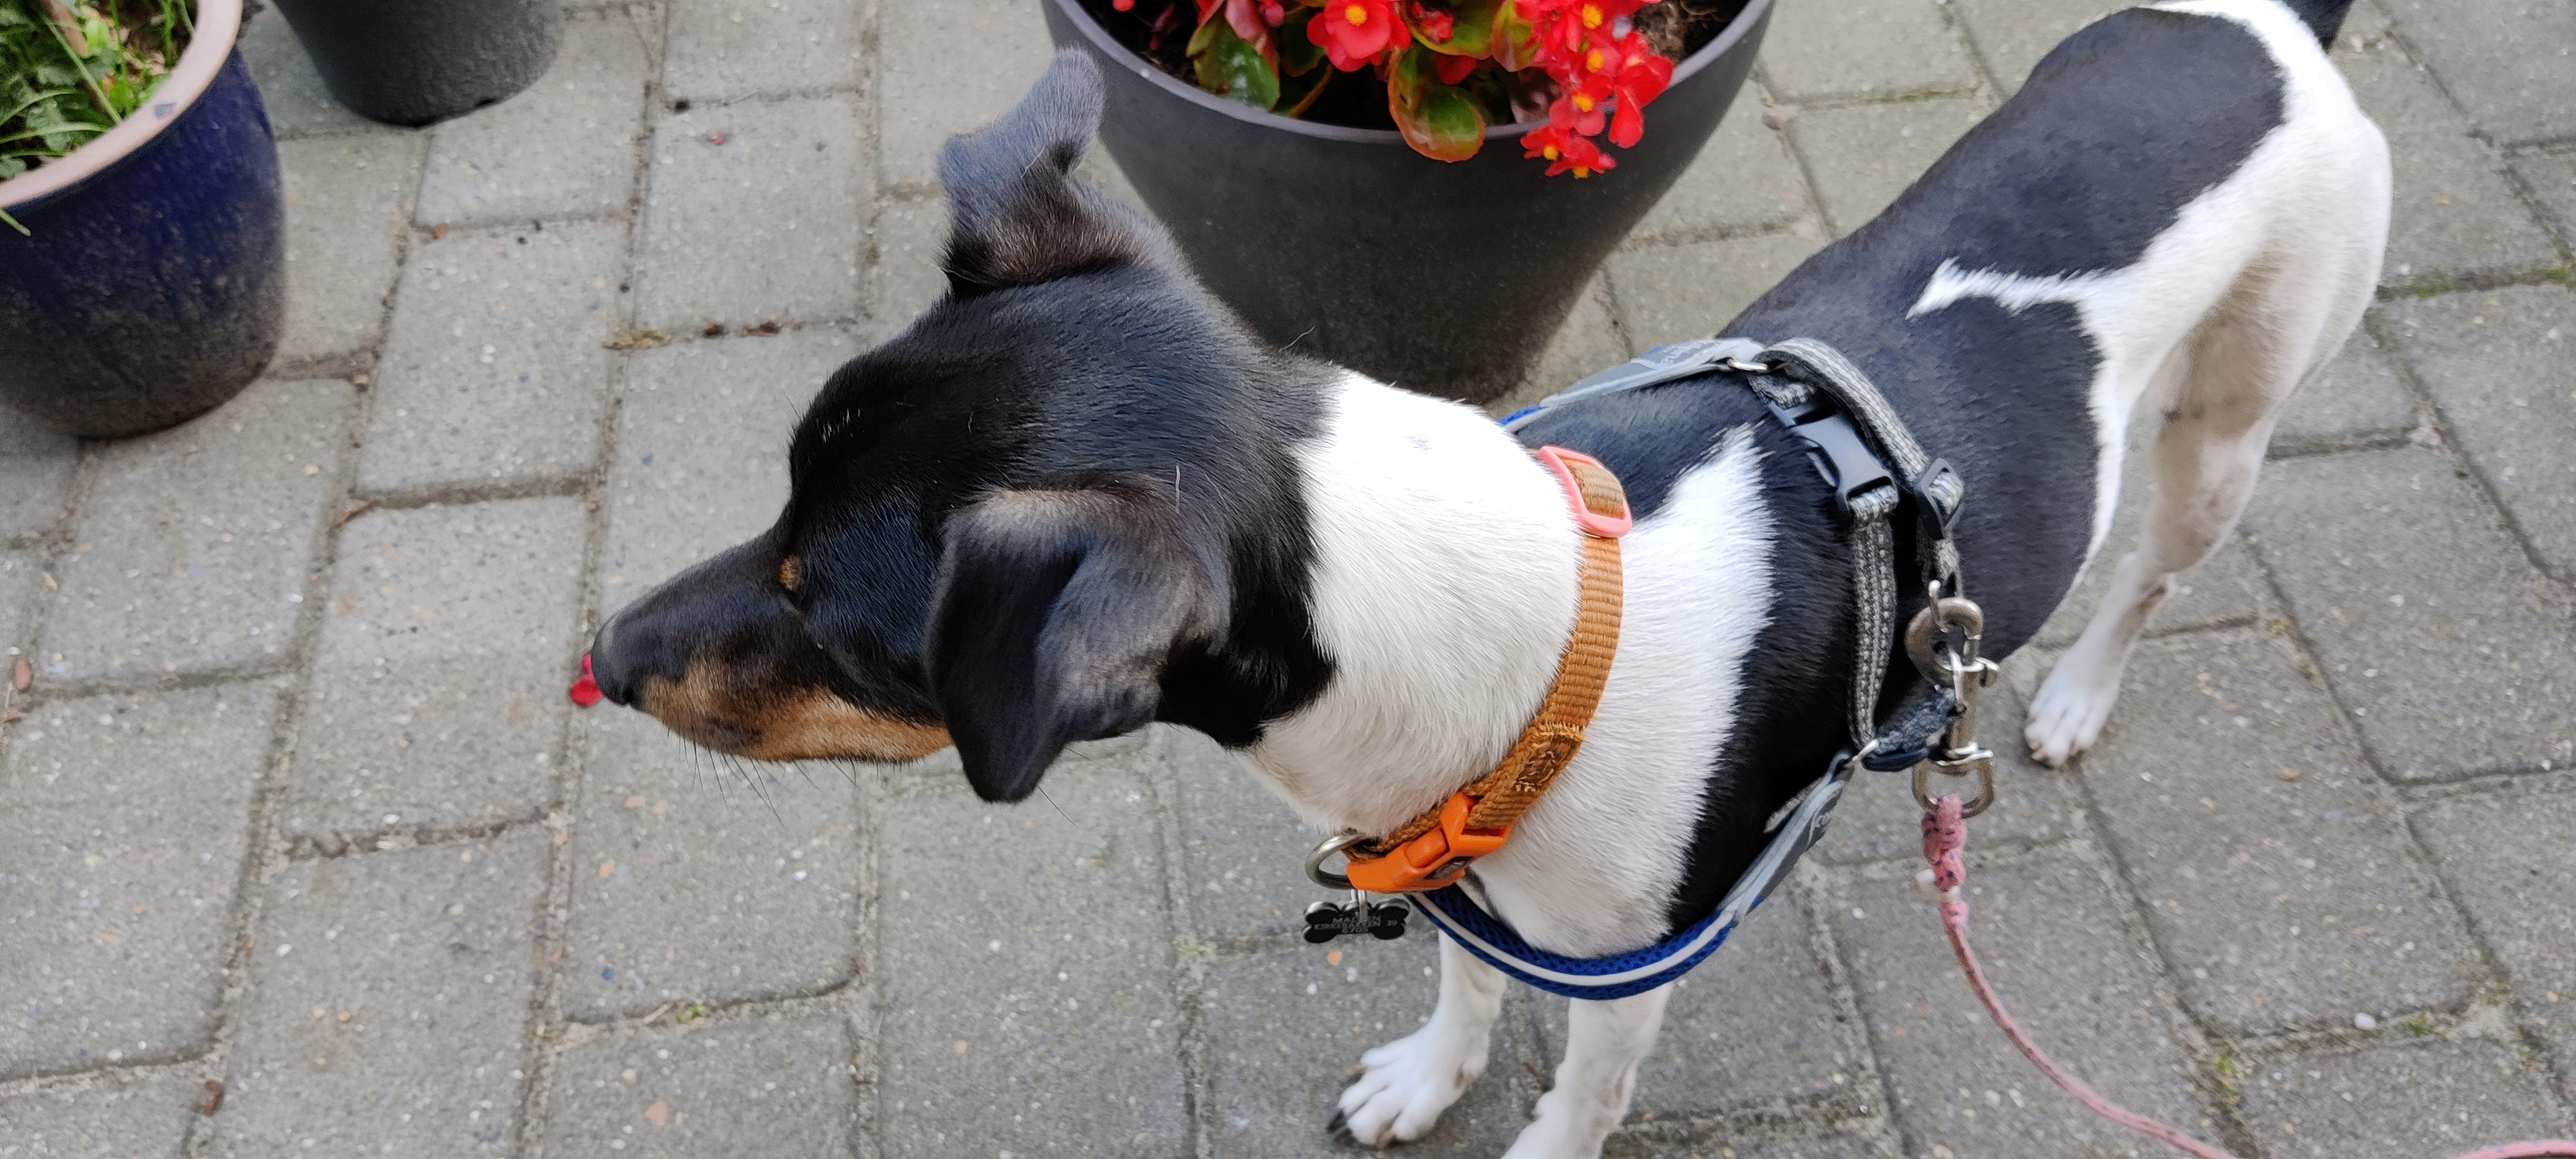Dog: (580, 0, 2405, 1159)
